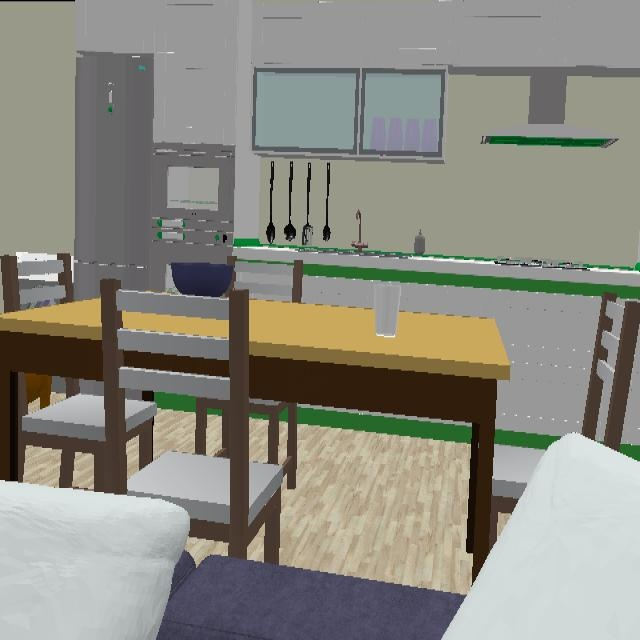cabinet: (75, 1, 640, 236)
chair: (102, 280, 282, 562), (18, 373, 104, 491), (581, 293, 640, 451), (490, 446, 542, 546), (2, 253, 72, 311), (125, 400, 156, 468)
countertop: (234, 238, 640, 298)
fridge: (74, 53, 152, 299)
microwave: (154, 144, 234, 241)
oven: (151, 228, 232, 291)
pillow: (444, 433, 640, 638), (0, 481, 189, 638)
sink: (298, 210, 411, 258)
sofa: (158, 550, 463, 640)
stove: (494, 258, 589, 270)
table: (250, 301, 510, 572), (0, 300, 101, 479), (124, 313, 228, 336), (125, 354, 228, 376)
